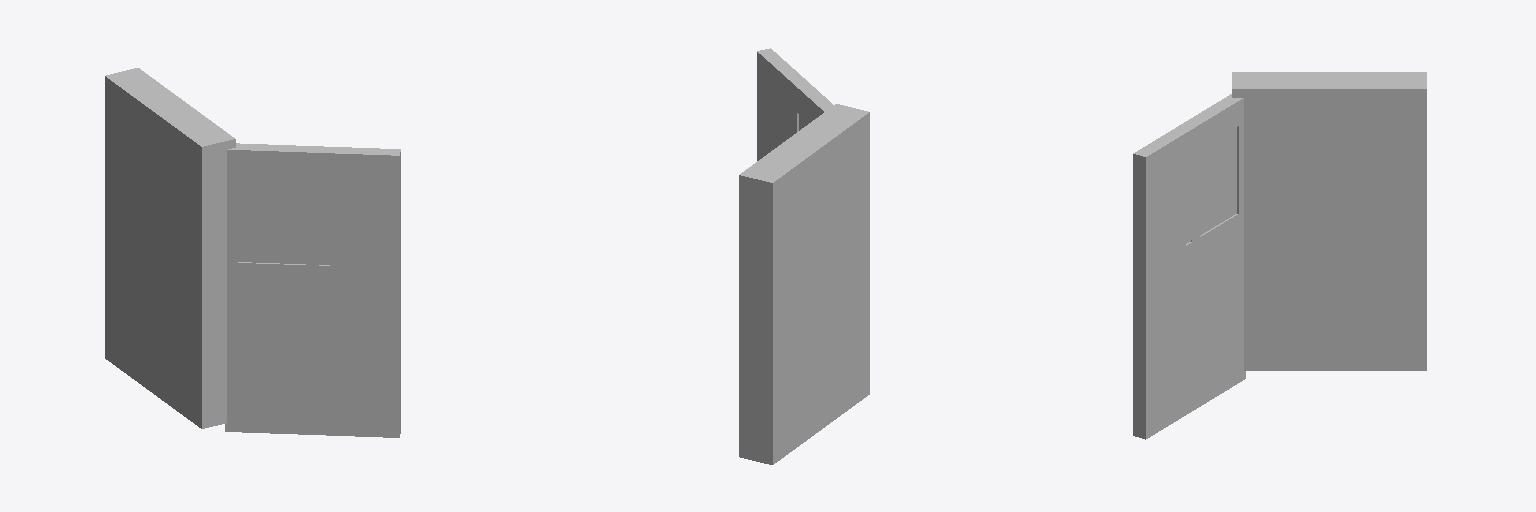
File: door.obj
The picture shows the model from 3 angles: view 1: azimuth 30°, elevation 25°; view 2: azimuth 150°, elevation 25°; view 3: azimuth 270°, elevation 25°; orthographic projection.
Parts seen in each view (by area): view 1: Cube.002, Cube; view 2: Cube, Cube.002; view 3: Cube, Cube.002.
Boxes of the visible parts, x1,y1,x2,y2 form: Cube.002: [225, 143, 400, 437]; Cube: [105, 68, 235, 428]; Cube: [739, 104, 869, 464]; Cube.002: [757, 48, 833, 160]; Cube: [1232, 72, 1426, 370]; Cube.002: [1133, 94, 1245, 439].
Bounding box in the file's own units: 9.26 × 16.5 × 15.08.